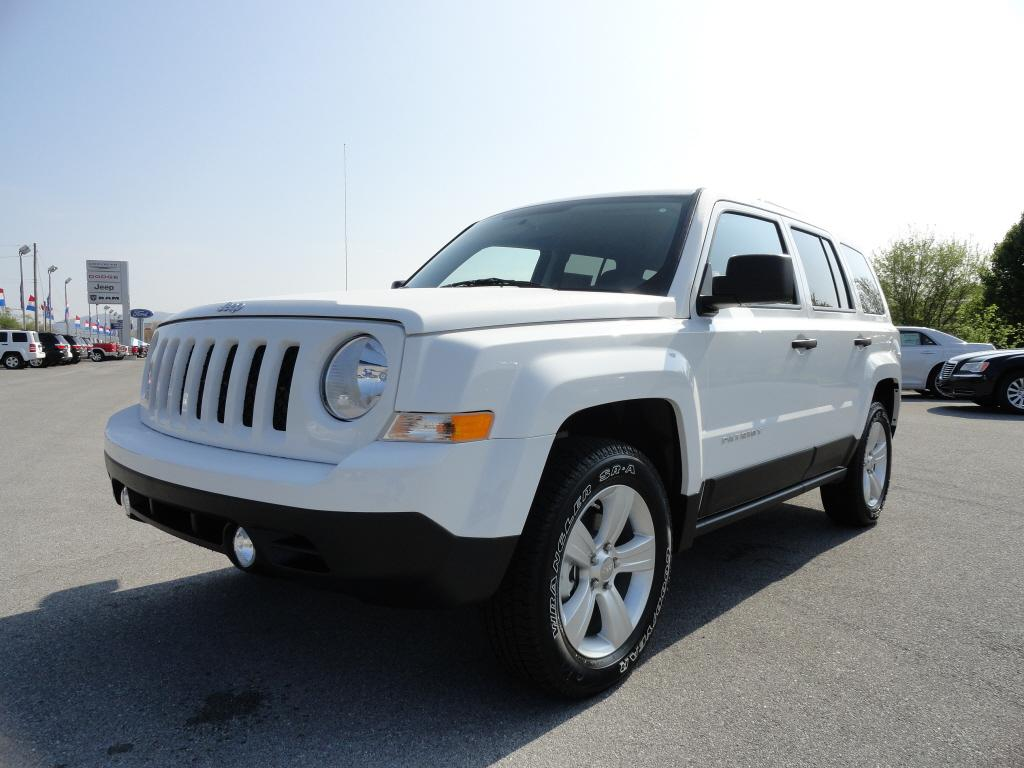jeep: (207, 292, 249, 323)
